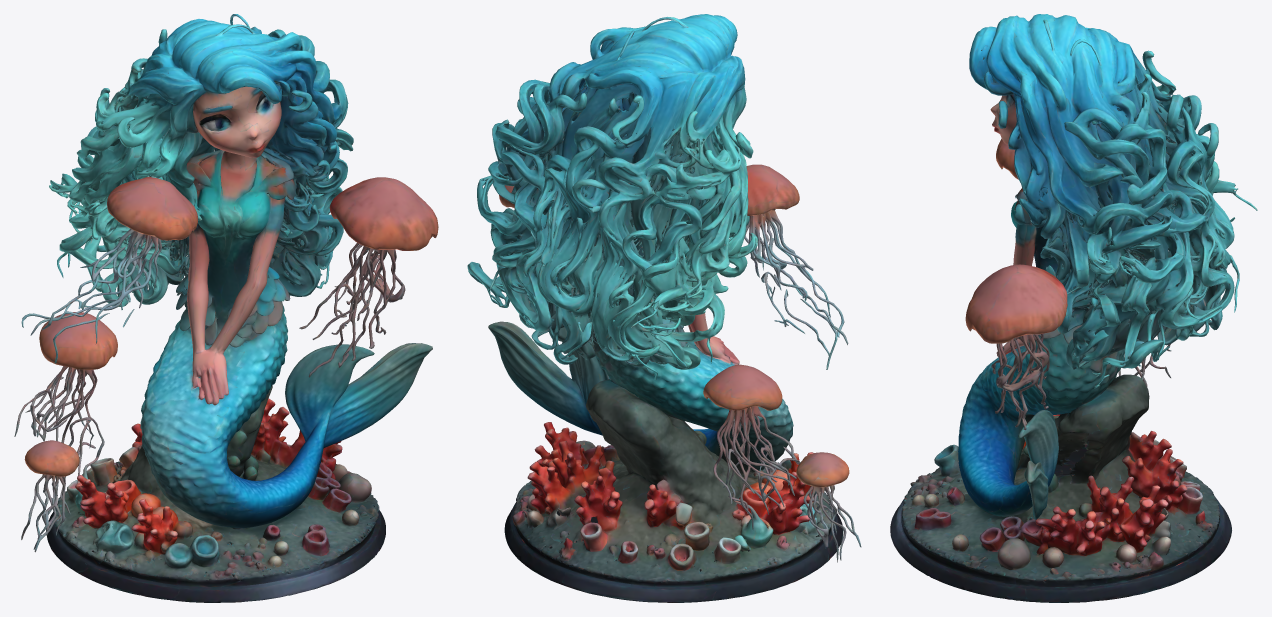
Rendered from mermaid.glb.
The picture shows the model from 3 angles, left to right: view 1: azimuth 30°, elevation 25°; view 2: azimuth 150°, elevation 25°; view 3: azimuth 270°, elevation 25°; orthographic projection.
Visible parts, largest first — view 1: world; view 2: world; view 3: world.
Boxes of the visible parts, bbox=[...] form: world: bbox=[14, 14, 438, 602]; world: bbox=[467, 14, 861, 602]; world: bbox=[890, 14, 1257, 602].
Size of the model in its own units: 0.7945 by 1 by 0.649.
1 material, 1 textured.
